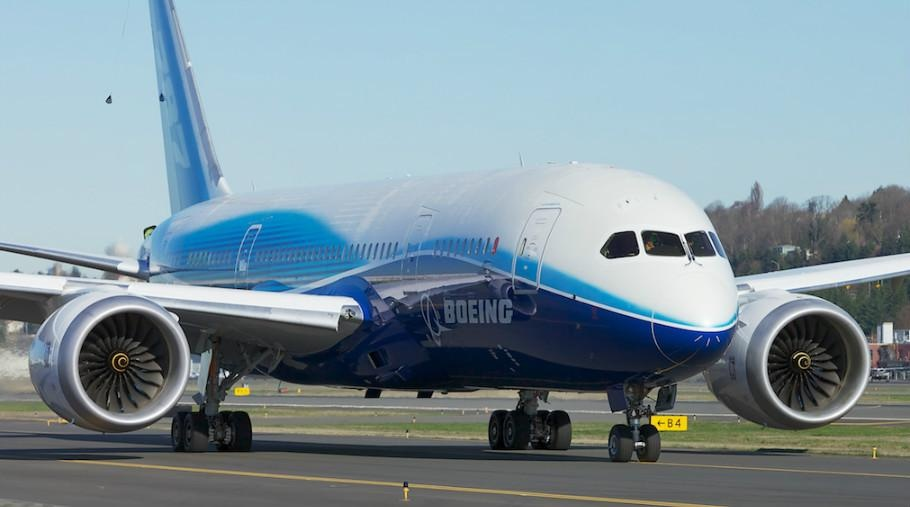airplane: (2, 11, 910, 454)
